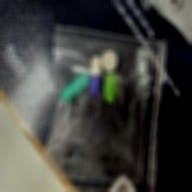러키펜정: (102, 51, 118, 73)
씨엠지세파클러캡슐: (89, 56, 103, 99)
에르도캡슐: (60, 73, 90, 102)
휴티렌정: (103, 72, 117, 104)
